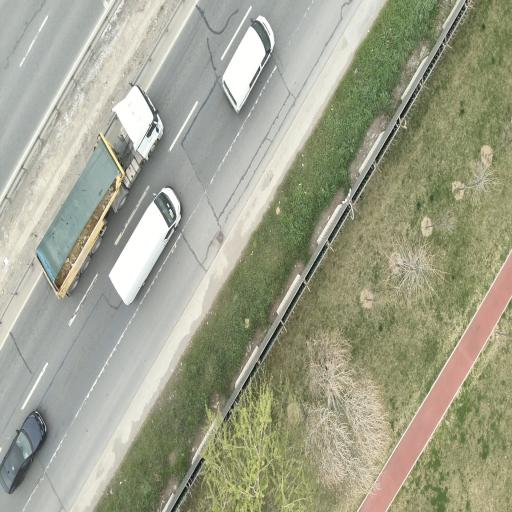car: (110, 188, 181, 304), (223, 16, 274, 112), (0, 412, 46, 493)
truck: (36, 86, 162, 297)
